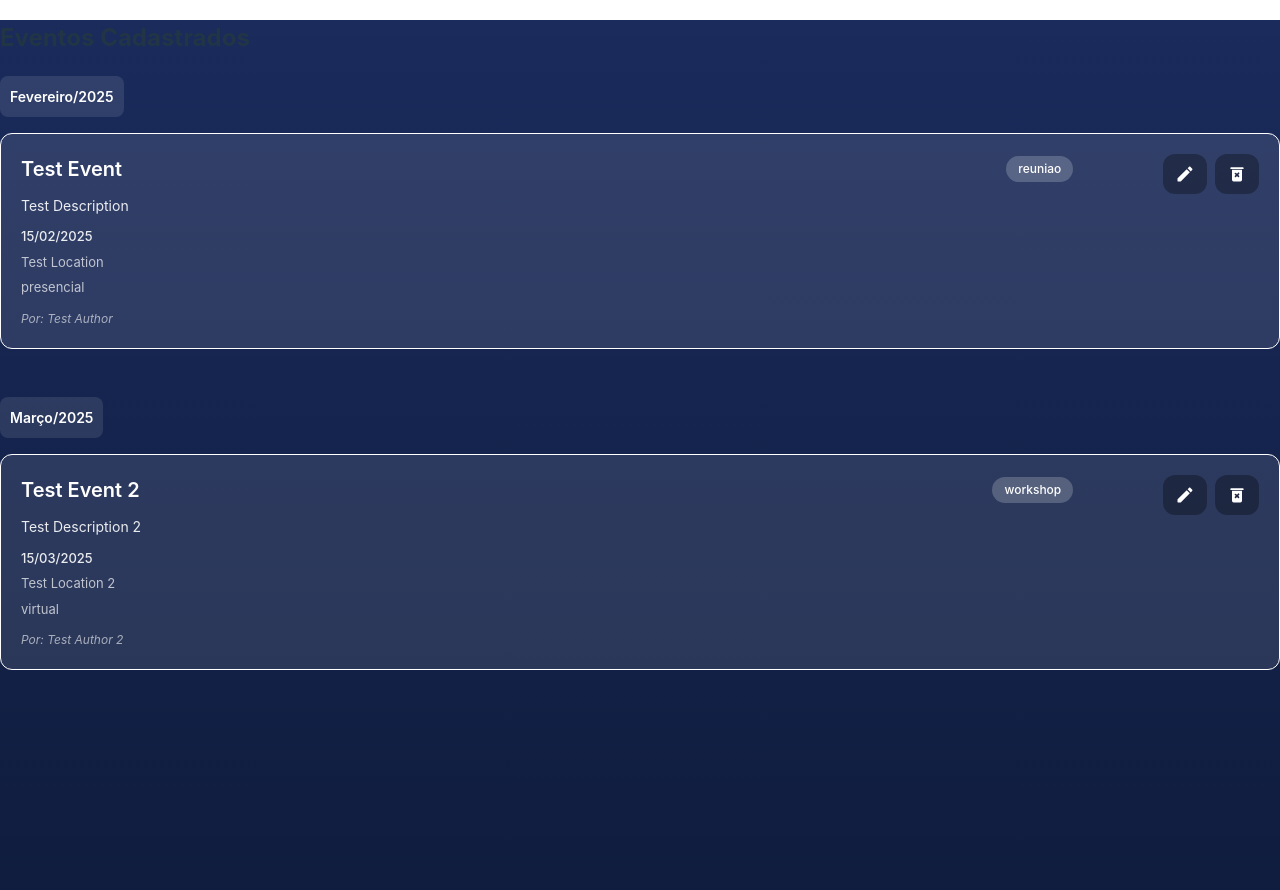
EventsList › should cancel edit mode when cancel button is clicked
Click the button titled "Editar" next to "reuniao": (1185, 174) [1163, 154, 1207, 194]
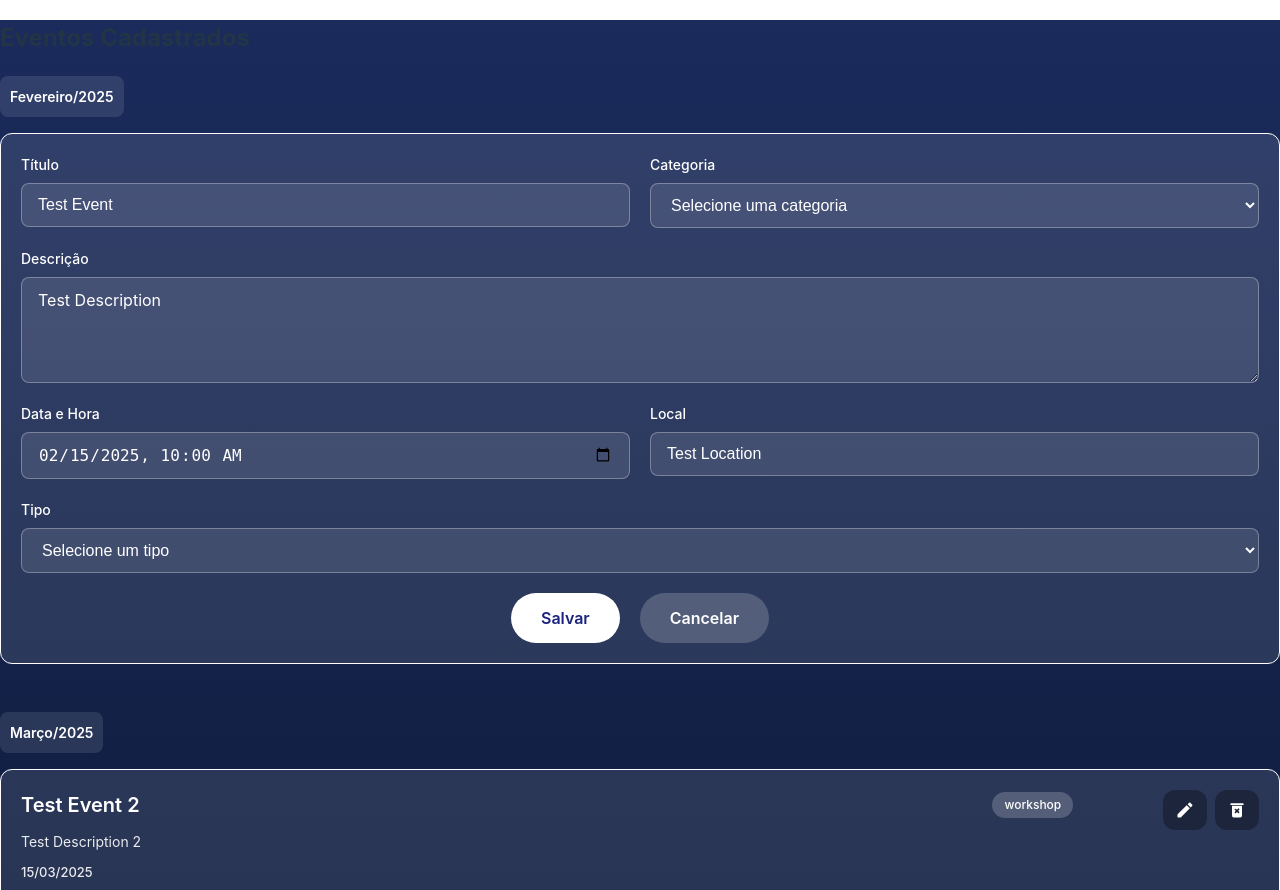
Expected: the field showing "Test Event" is shown, [21, 183, 630, 227]
Click the button "Cancelar": (704, 618) [640, 593, 769, 643]
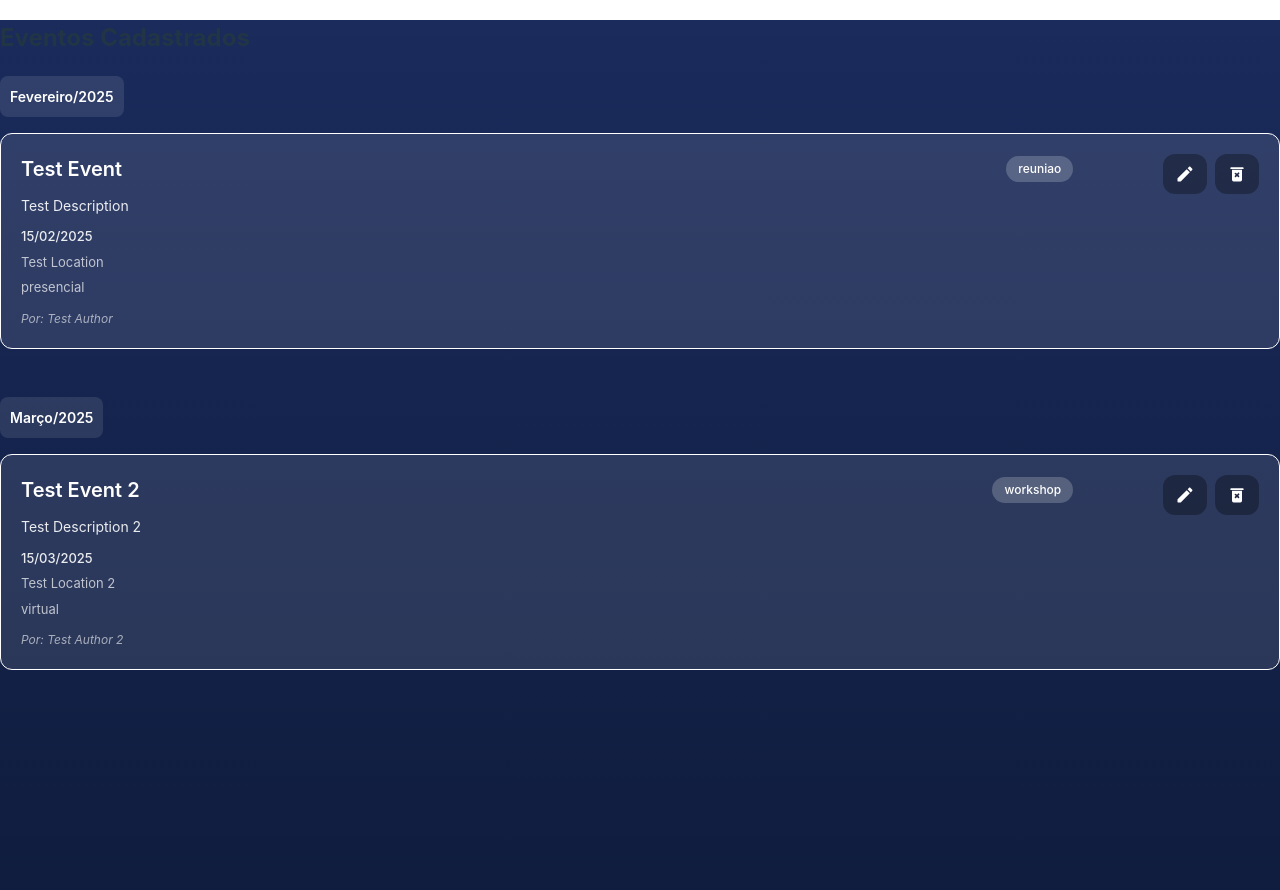
Expected: the text "Test Event" is shown, [21, 157, 122, 181]
